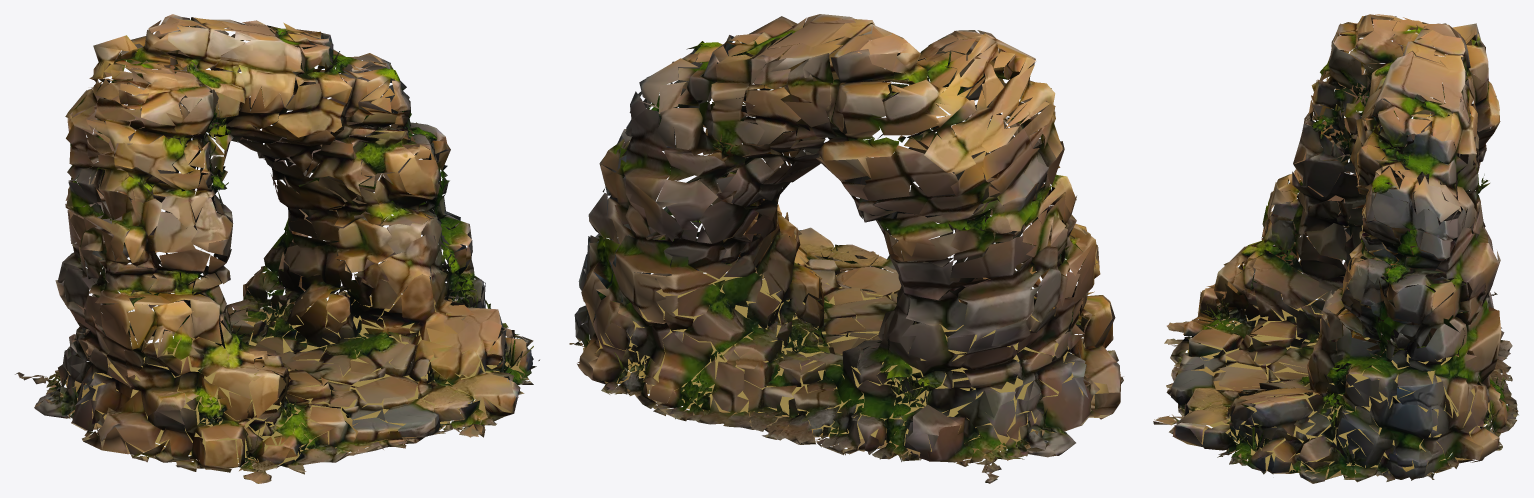
File: Rocky_Archway_town.glb
The picture shows the model from 3 angles, left to right: view 1: azimuth 30°, elevation 25°; view 2: azimuth 150°, elevation 25°; view 3: azimuth 270°, elevation 25°; orthographic projection. The views are drawn at different scales.
Parts seen in each view (by area): view 1: Rocky_Archway; view 2: Rocky_Archway; view 3: Rocky_Archway.
Boxes of the visible parts, x1=… form: Rocky_Archway: x1=15, y1=14, x2=539, y2=483; Rocky_Archway: x1=569, y1=14, x2=1123, y2=483; Rocky_Archway: x1=1153, y1=14, x2=1518, y2=483.
Size of the model in its own units: 1.91 by 1.44 by 1.45.
1 material, 1 textured.
